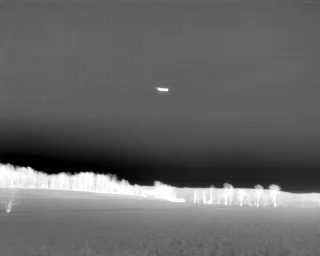DRONE: (153, 83, 173, 97)
